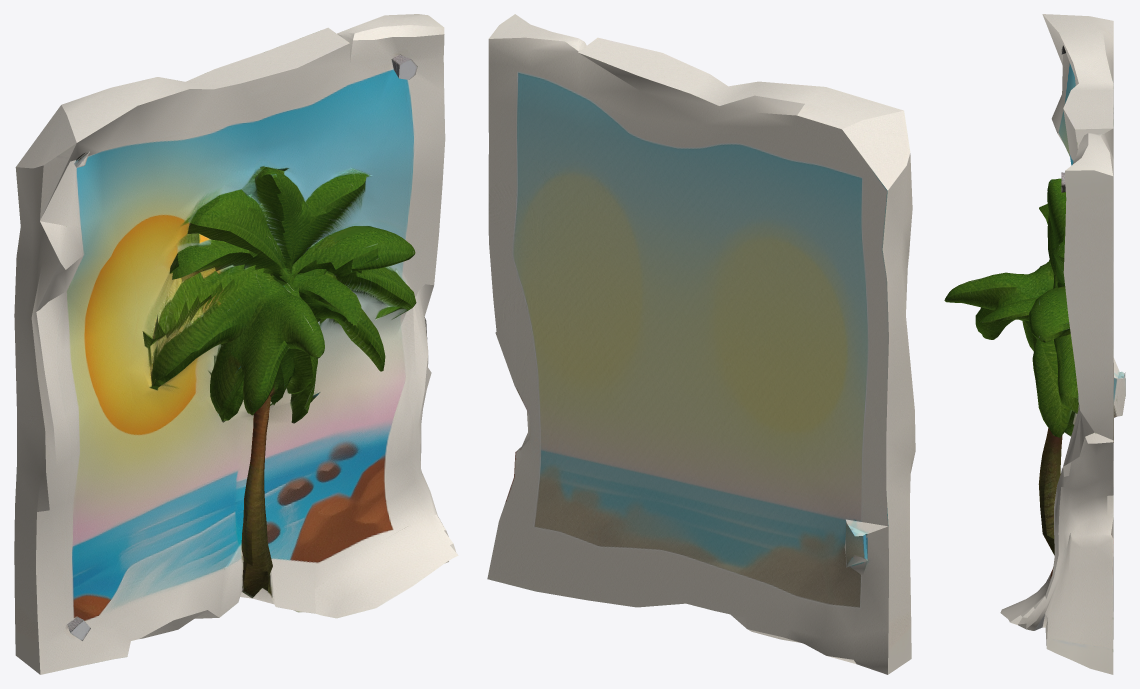
The model's file is poster.glb.
3 renders of one model, left to right at view 1: azimuth 30°, elevation 25°; view 2: azimuth 150°, elevation 25°; view 3: azimuth 270°, elevation 25°, orthographic. The views are drawn at different scales.
Visible parts, largest first — view 1: Mesh_0; view 2: Mesh_0; view 3: Mesh_0.
Part boxes in pixels (x1=…): Mesh_0: x1=14, y1=14, x2=458, y2=674; Mesh_0: x1=487, y1=14, x2=915, y2=674; Mesh_0: x1=944, y1=14, x2=1125, y2=674.
Size of the model in its own units: 1.45 by 1.9 by 0.6136.
1 material, 1 textured.
